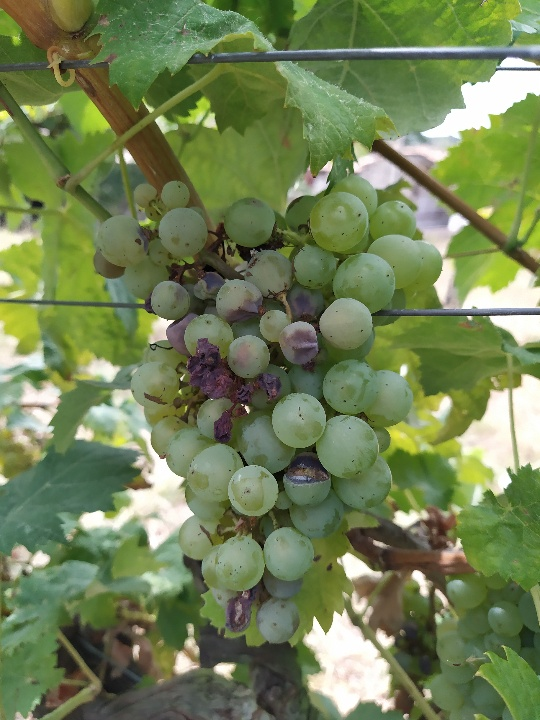grape: (93, 171, 446, 647)
